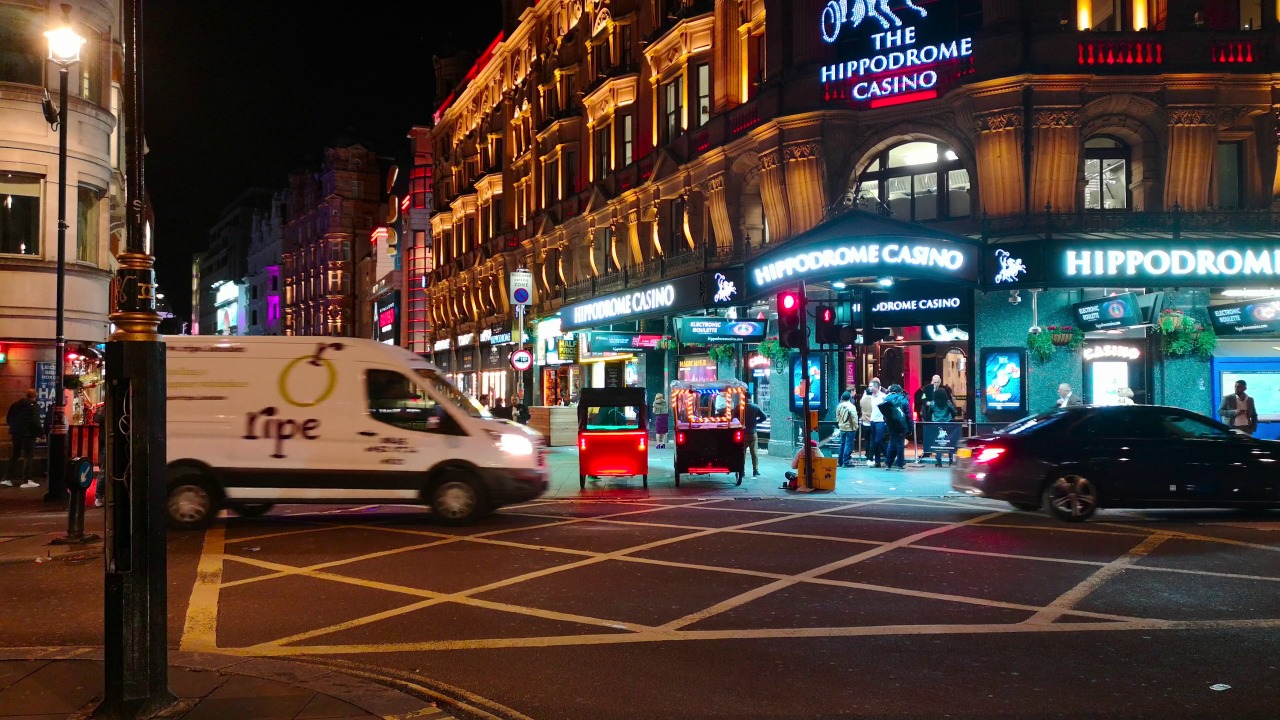car: (165, 336, 555, 515), (950, 417, 1280, 523), (670, 379, 736, 493), (585, 389, 643, 493)
person: (1, 383, 58, 497), (745, 393, 771, 487), (1207, 374, 1257, 413), (886, 385, 908, 471), (789, 438, 821, 484), (839, 394, 854, 465), (650, 387, 667, 442), (1055, 374, 1084, 401), (1110, 377, 1137, 402), (870, 386, 879, 461), (511, 396, 527, 418), (930, 395, 947, 414), (925, 379, 948, 392), (496, 398, 502, 418), (865, 377, 882, 381)
